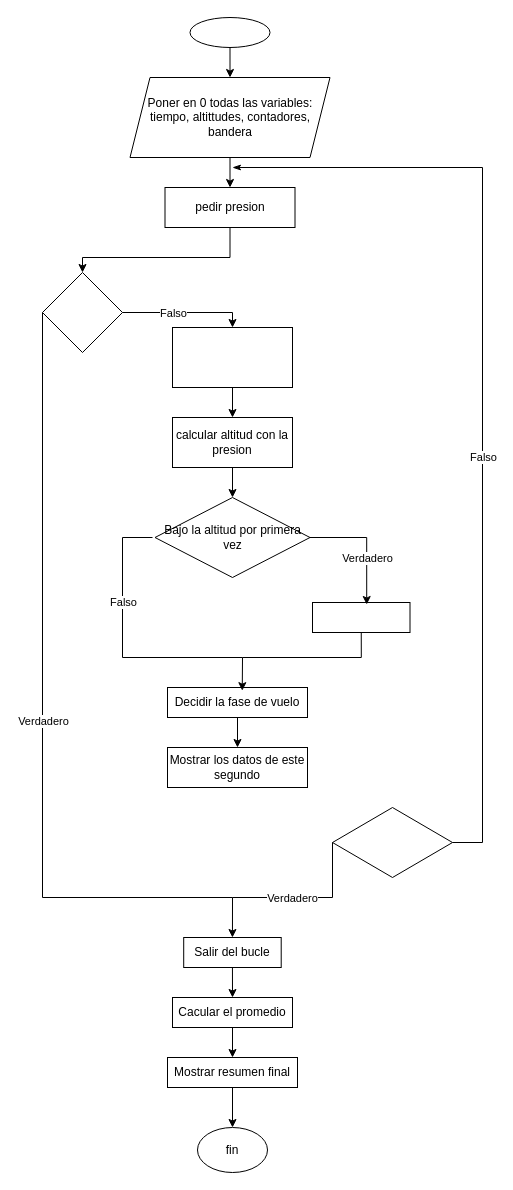
Some shapes in this 513 by 1190 pixel diagram are drawn without their labels. Here are the shapes that lost their labels. From the top down, the centre of each, then its label:
point (229, 32): Inicio
point (82, 312): Es FIN
point (232, 357): Pedir aceleracion y temperatura
point (361, 617): Marcar apogeo
point (392, 842): Ya toco el suelo
